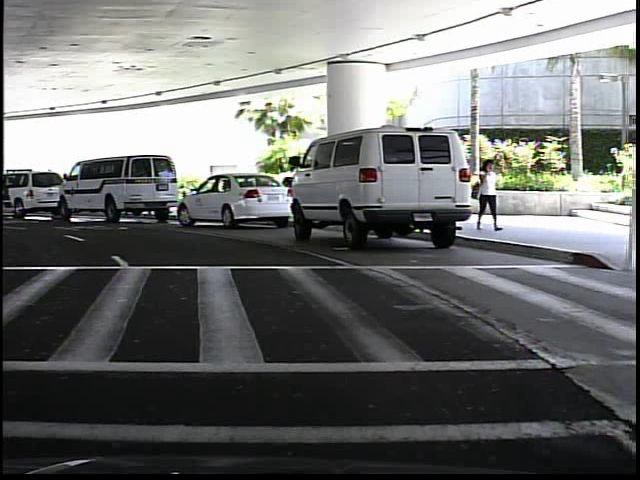person: (473, 153, 501, 231)
